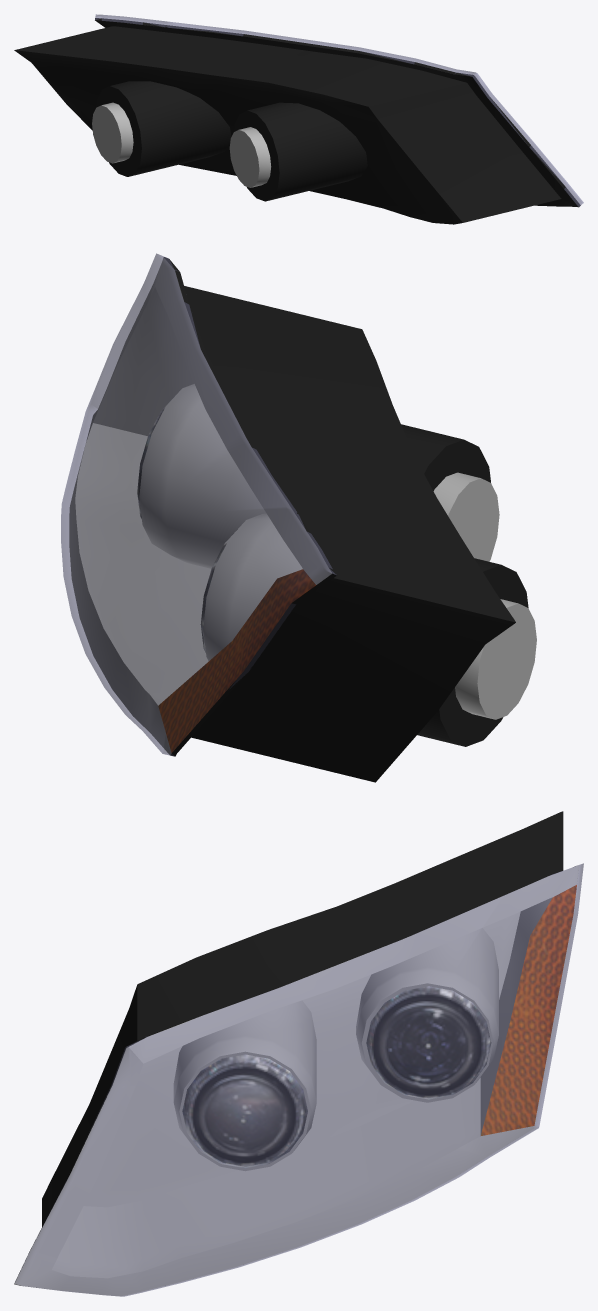
3 renders of one model, top to bottom at view 1: azimuth 30°, elevation 25°; view 2: azimuth 150°, elevation 25°; view 3: azimuth 270°, elevation 25°, orthographic. The views are drawn at different scales.
Visible parts, largest first — view 1: X6166_061B_L_X6166_061B_L_2_D, X6166_061B_L_1_DaS_X6166_061B_L, X6166_061B_L_X6166_061B_L_3_DTaSI; view 2: X6166_061B_L_X6166_061B_L_2_D, X6166_061B_L_X6166_061B_L_3_DTaSI, X6166_061B_L_1_DaS_X6166_061B_L, X6166_061B_L_X6166_061B_L_6_N; view 3: X6166_061B_L_X6166_061B_L_3_DTaSI, X6166_061B_L_1_DaS_X6166_061B_L, X6166_061B_L_X6166_061B_L_2_D, X6166_061B_L_X6166_061B_L_5_N, X6166_061B_L_X6166_061B_L_4_N, X6166_061B_L_X6166_061B_L_6_N.
Part boxes in pixels (<box>): X6166_061B_L_X6166_061B_L_2_D: <box>14,18,580,224</box>; X6166_061B_L_1_DaS_X6166_061B_L: <box>92,102,271,187</box>; X6166_061B_L_X6166_061B_L_3_DTaSI: <box>95,14,583,206</box>; X6166_061B_L_X6166_061B_L_2_D: <box>164,257,528,782</box>; X6166_061B_L_X6166_061B_L_3_DTaSI: <box>61,253,335,756</box>; X6166_061B_L_1_DaS_X6166_061B_L: <box>69,257,536,754</box>; X6166_061B_L_X6166_061B_L_6_N: <box>158,569,315,752</box>; X6166_061B_L_X6166_061B_L_3_DTaSI: <box>14,863,583,1296</box>; X6166_061B_L_1_DaS_X6166_061B_L: <box>15,865,579,1296</box>; X6166_061B_L_X6166_061B_L_2_D: <box>14,811,575,1285</box>; X6166_061B_L_X6166_061B_L_5_N: <box>182,1054,307,1168</box>; X6166_061B_L_X6166_061B_L_4_N: <box>366,986,491,1099</box>; X6166_061B_L_X6166_061B_L_6_N: <box>481,885,576,1135</box>.
Size of the model in its own units: 48.88 by 17.73 by 40.21.
